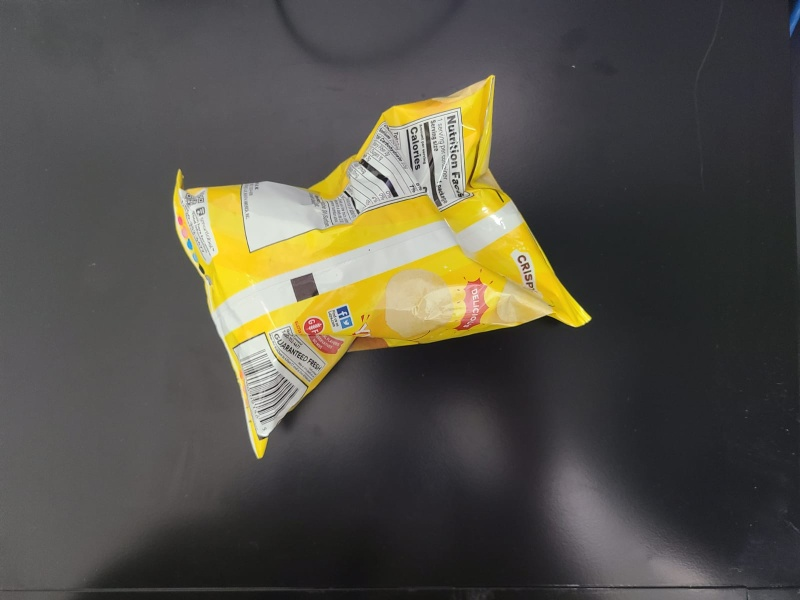lays: (166, 74, 595, 462)
